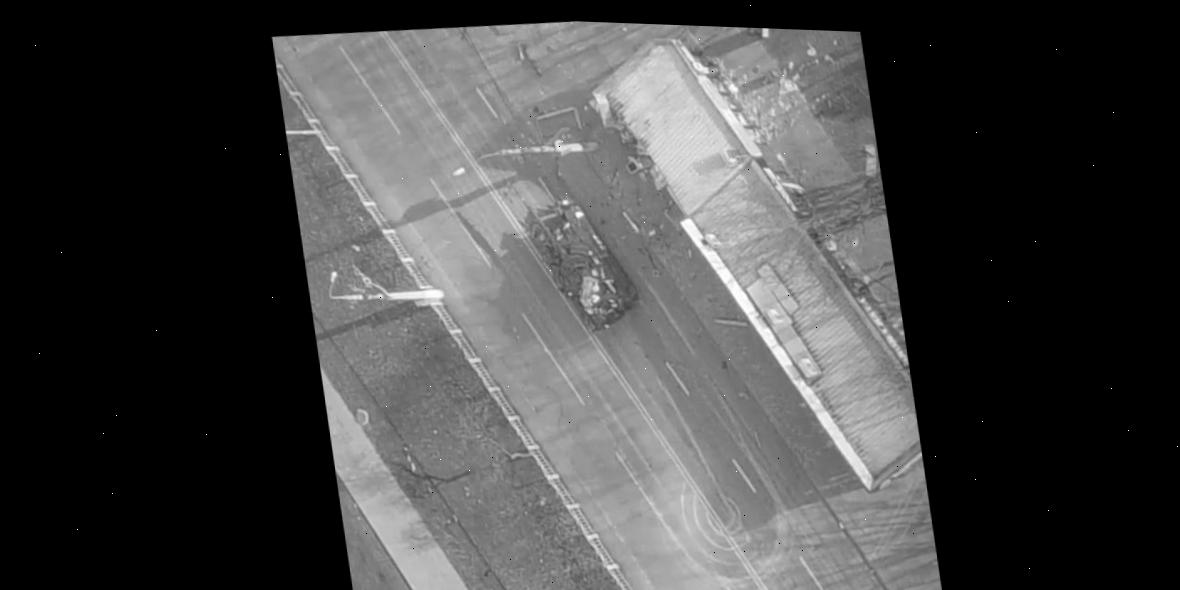tank: (504, 167, 645, 339)
